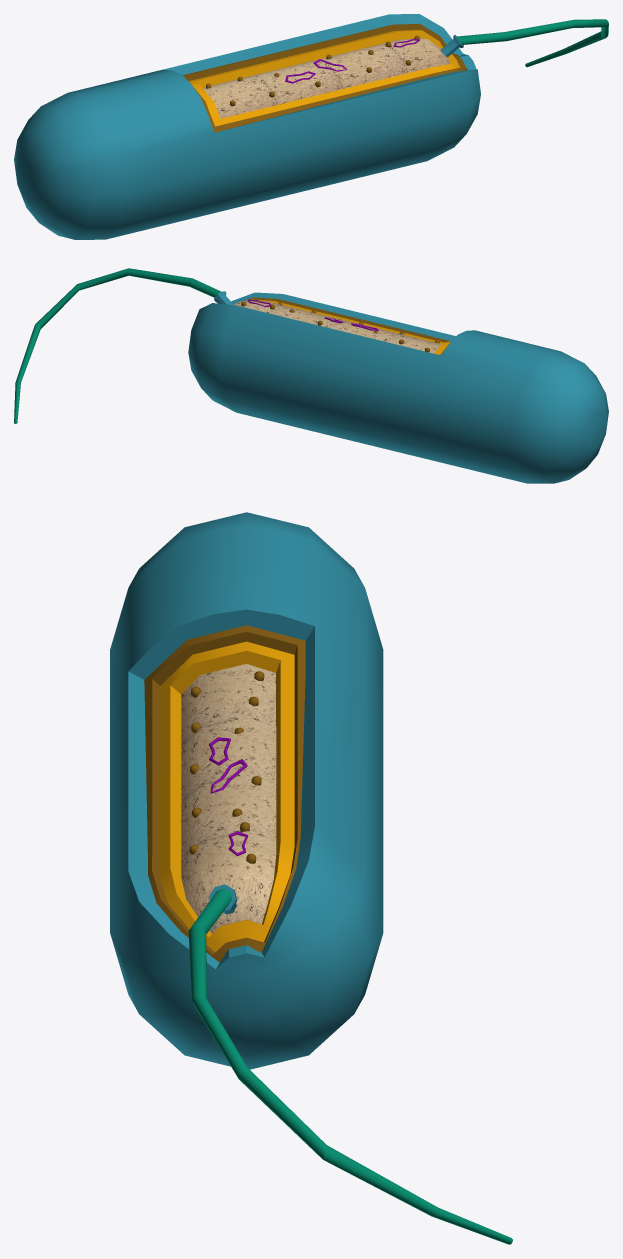
File: Bacteria.fbx
3 renders of one model, top to bottom at view 1: azimuth 30°, elevation 25°; view 2: azimuth 150°, elevation 25°; view 3: azimuth 270°, elevation 25°, orthographic. The views are drawn at different scales.
Parts seen in each view (by area): view 1: Bacteria; view 2: Bacteria; view 3: Bacteria.
Part boxes in pixels (x1=…): Bacteria: x1=14, y1=14, x2=608, y2=239; Bacteria: x1=14, y1=268, x2=608, y2=483; Bacteria: x1=110, y1=512, x2=512, y2=1244.
Bounding box in the file's own units: 110 × 25.77 × 35.24.
Materials: 6 (1 with a texture image).
